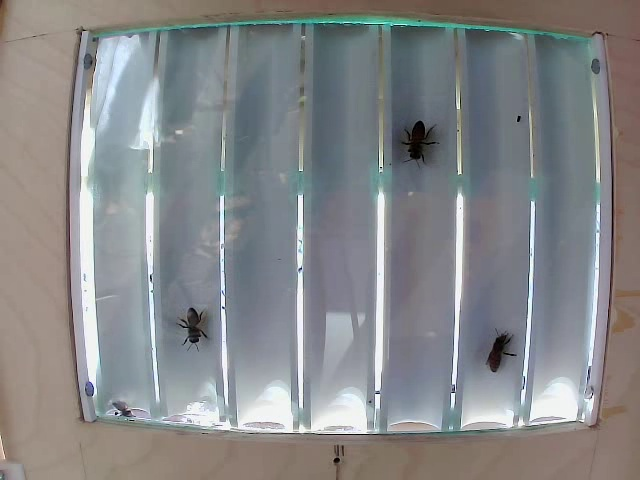bee: (399, 123, 432, 185), (486, 320, 517, 383), (166, 307, 204, 342)
